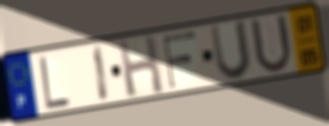F: (161, 29, 198, 91)
H: (116, 33, 166, 100)
I: (92, 43, 112, 104)
L: (37, 54, 73, 111)
U: (248, 13, 295, 77), (208, 18, 254, 83)
